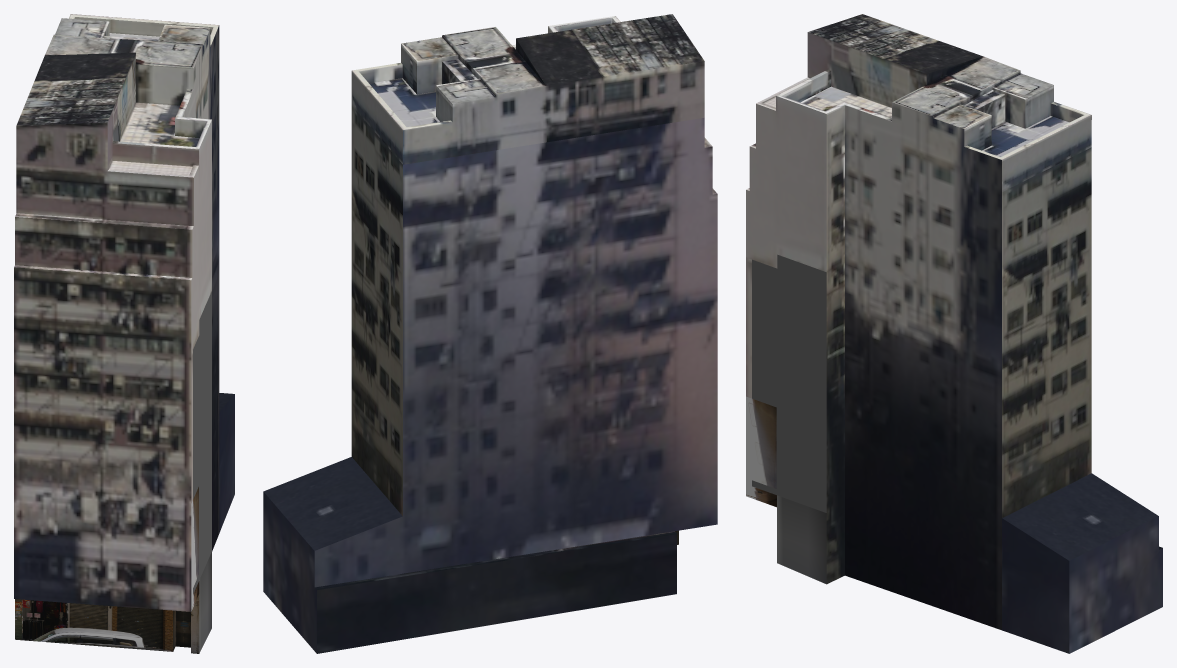
The model's file is input.glb.
3 renders of one model, left to right at view 1: azimuth 30°, elevation 25°; view 2: azimuth 150°, elevation 25°; view 3: azimuth 270°, elevation 25°, orthographic. The views are drawn at different scales.
Visible parts, largest first — view 1: B349992122201063A0; view 2: B349992122201063A0; view 3: B349992122201063A0.
Part boxes in pixels (x1,y1,x2,y2): B349992122201063A0: (14,14,234,653); B349992122201063A0: (263,14,717,653); B349992122201063A0: (746,14,1162,653).
Size of the model in its own units: 21.83 by 33.4 by 25.21.
Materials: 1 (1 with a texture image).
